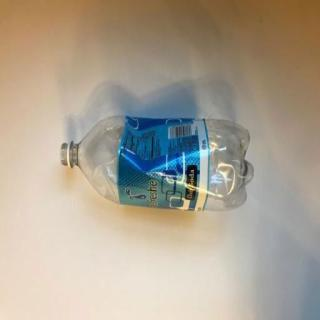Plastic-bottle: (60, 112, 257, 217)
